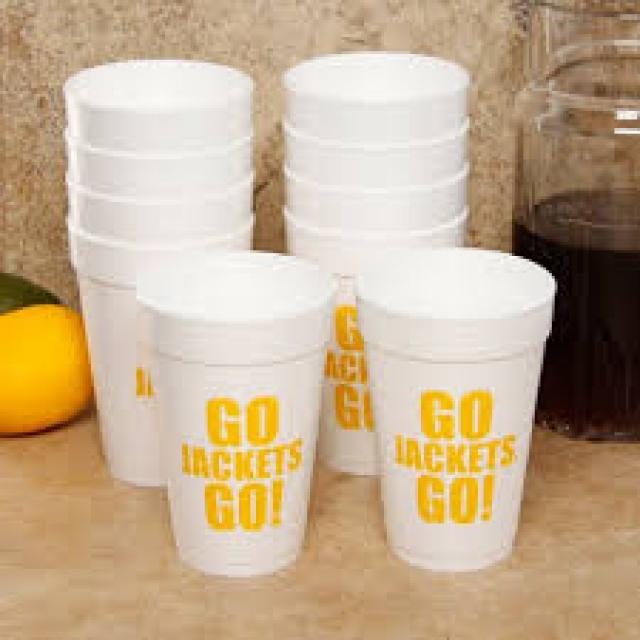organic waste: (509, 185, 637, 444), (0, 299, 88, 441), (0, 270, 57, 313)
